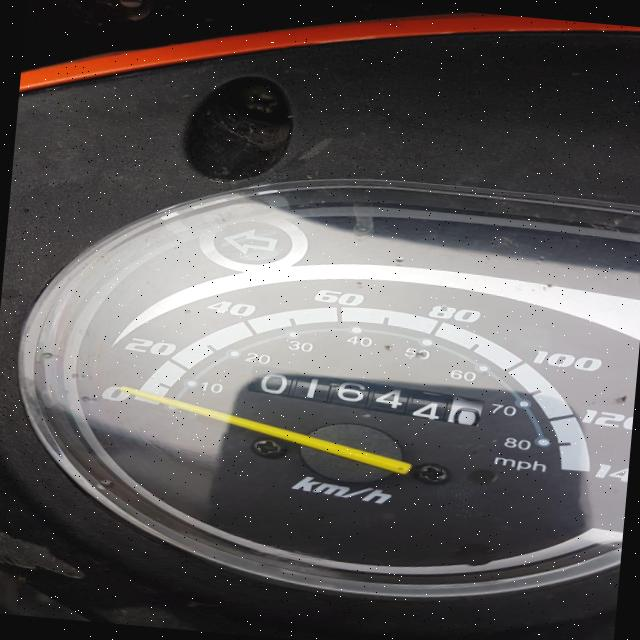odometer: (239, 361, 488, 428)
